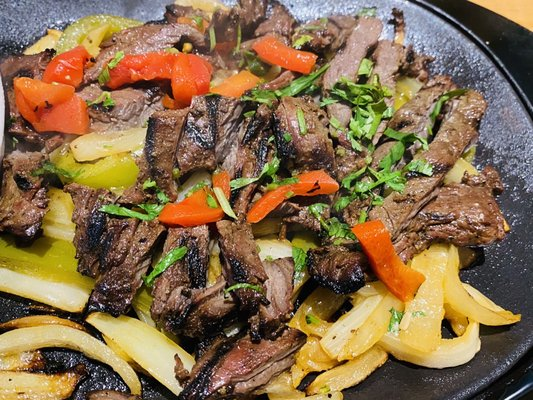pasta: (0, 302, 143, 400)
